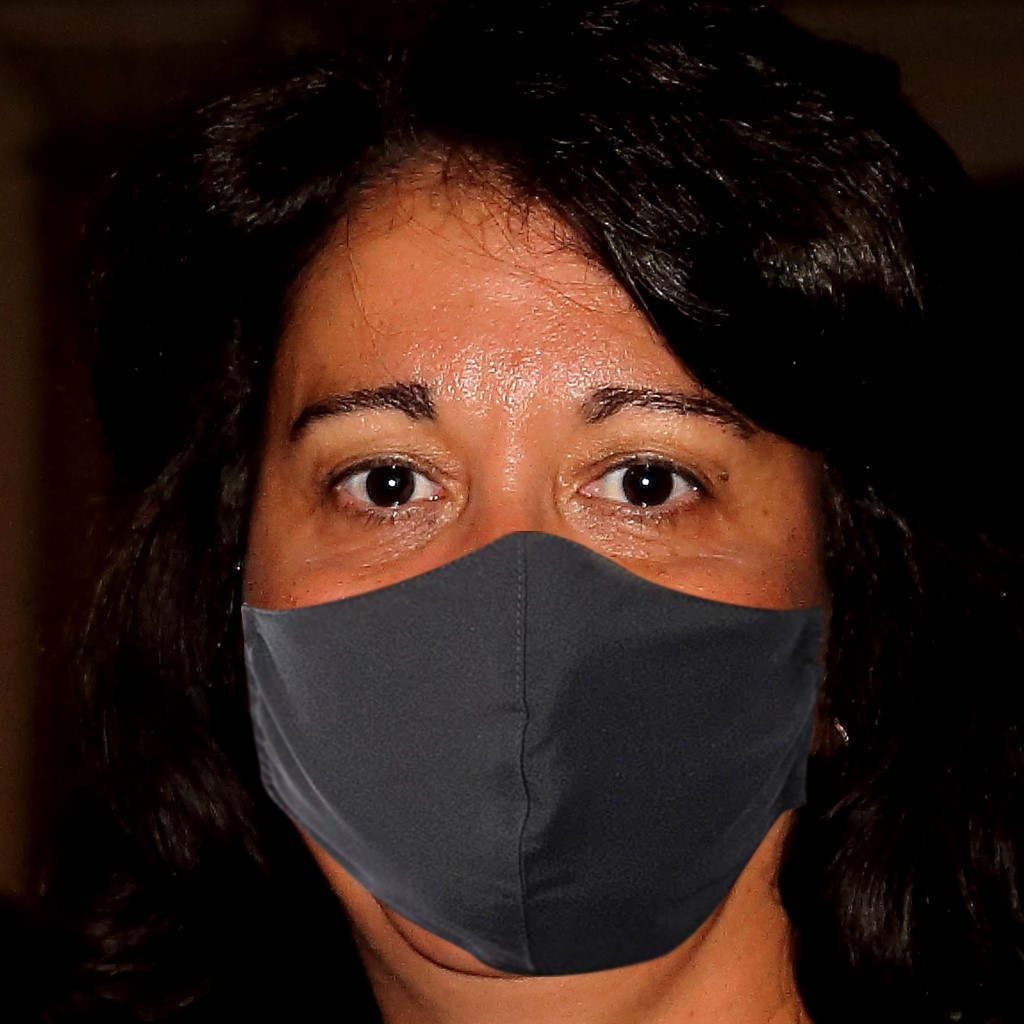con_mascara: (250, 211, 833, 976)
